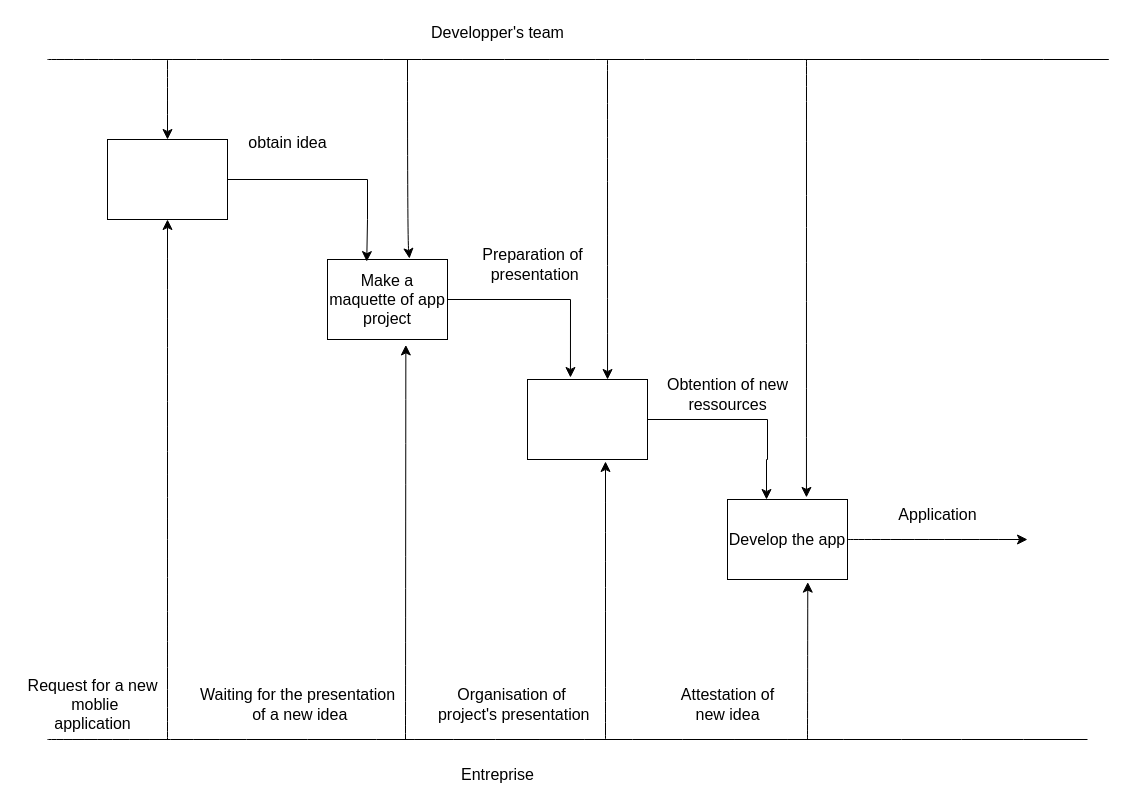
This 1127x806 diagram has some shape labels left out. The centre of each missing label's shape, as x and y in pixels:
do the Presation of project: pixel 587 419
Get ideas: pixel 167 179
